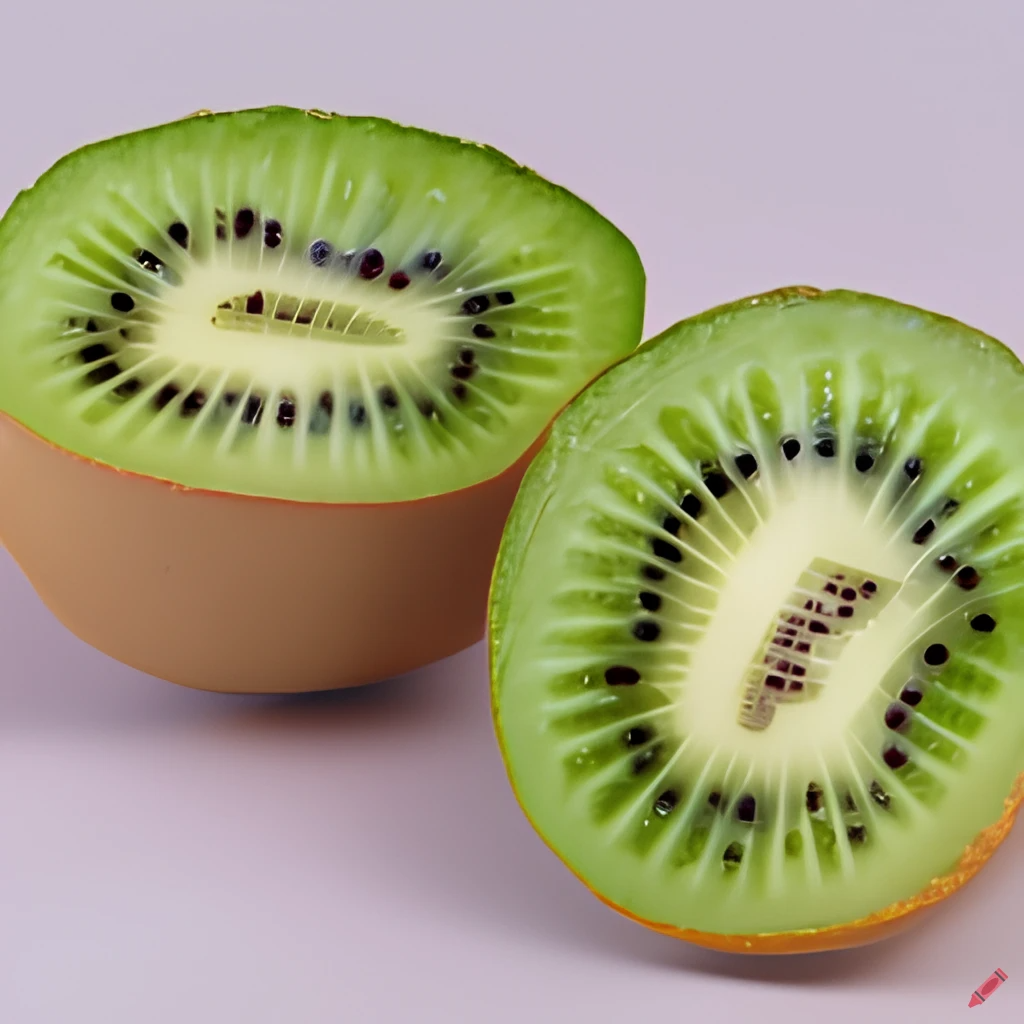Kiwi: (470, 256, 1020, 968)
